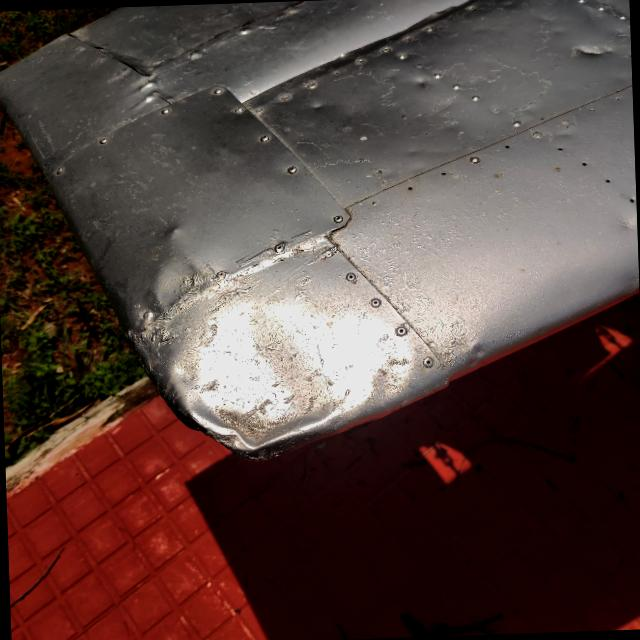dent: (162, 282, 374, 483)
